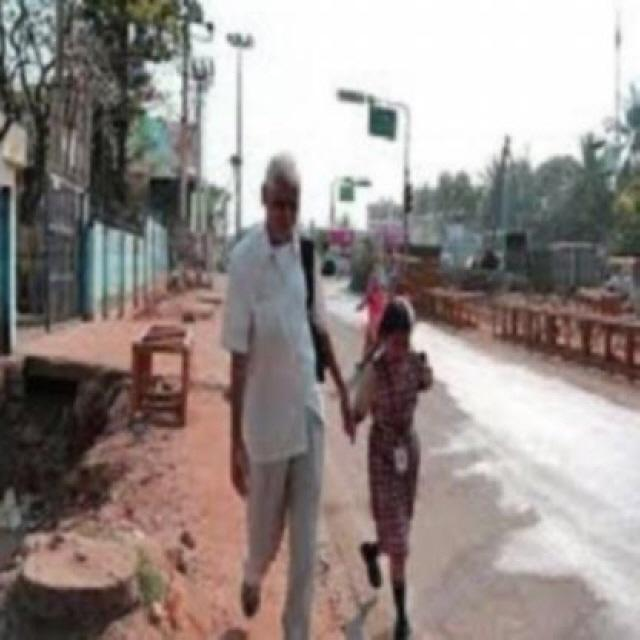Stand: (223, 155, 355, 640), (355, 298, 434, 640)
